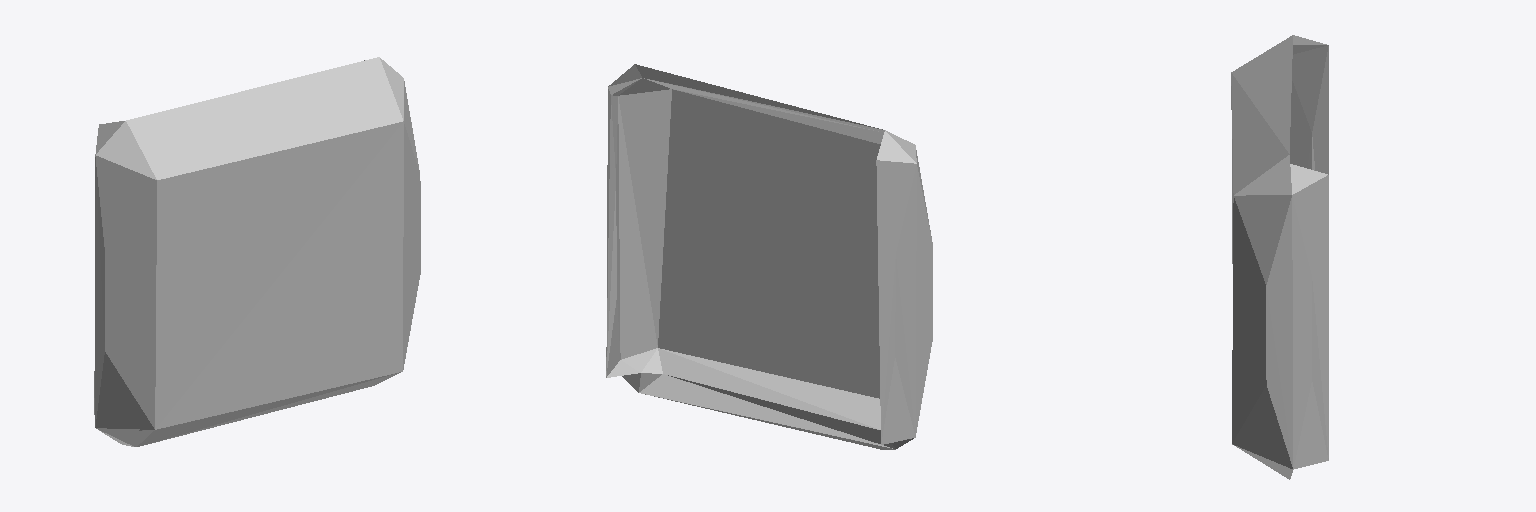
File: part_9_simplified.obj
The picture shows the model from 3 angles: view 1: azimuth 30°, elevation 25°; view 2: azimuth 150°, elevation 25°; view 3: azimuth 270°, elevation 25°; orthographic projection.
Visible parts, largest first — view 1: part_9_simplified; view 2: part_9_simplified; view 3: part_9_simplified.
Boxes of the visible parts, x1=… form: part_9_simplified: x1=94, y1=57, x2=420, y2=446; part_9_simplified: x1=606, y1=64, x2=932, y2=449; part_9_simplified: x1=1231, y1=35, x2=1328, y2=479.
Size of the model in its own units: 0.1316 by 0.1309 by 0.0352.